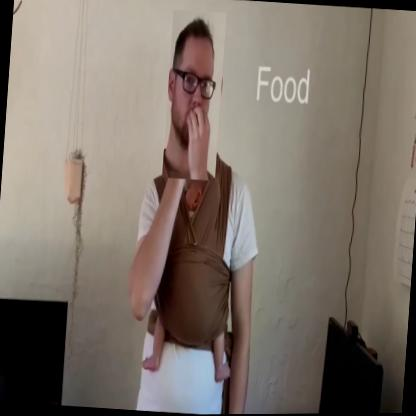Food: (162, 10, 226, 182)
